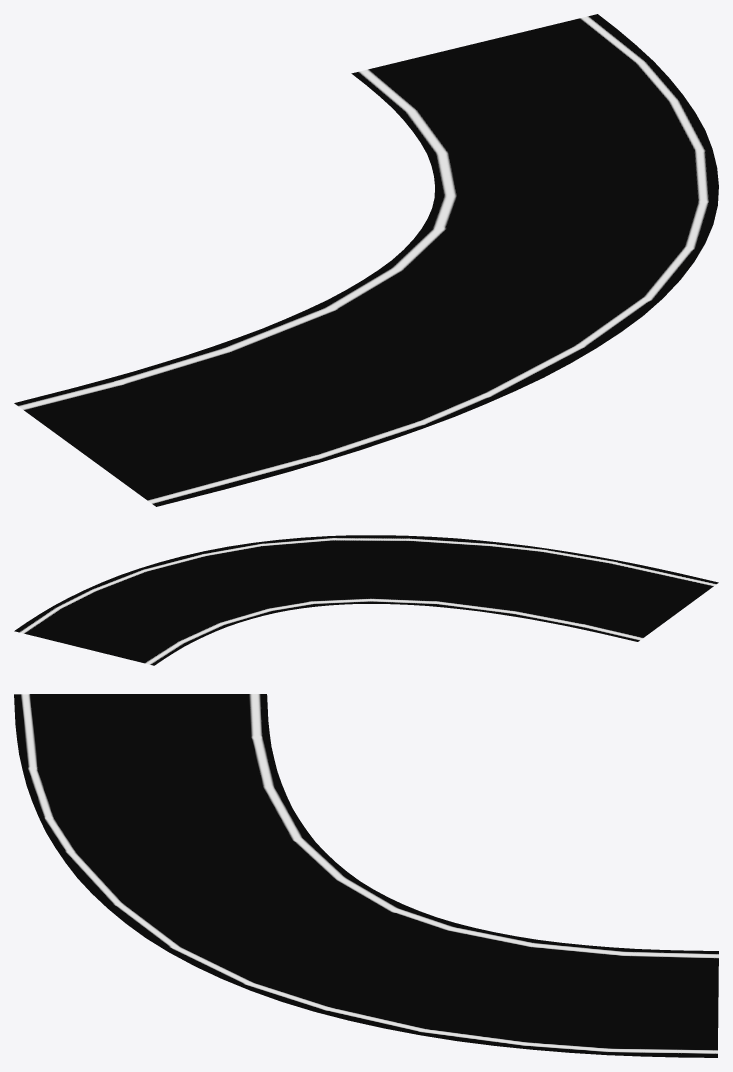
Rendered from tarack_baru.fbx.
3 renders of one model, top to bottom at view 1: azimuth 30°, elevation 25°; view 2: azimuth 150°, elevation 25°; view 3: azimuth 270°, elevation 25°, orthographic. The views are drawn at different scales.
Visible parts, largest first — view 1: Plane.003; view 2: Plane.003; view 3: Plane.003.
Part boxes in pixels (<box>): Plane.003: <box>14,14,718,506</box>; Plane.003: <box>14,535,718,665</box>; Plane.003: <box>14,694,718,1057</box>.
Size of the model in its own units: 5050 by 0.000685 by 4134.
